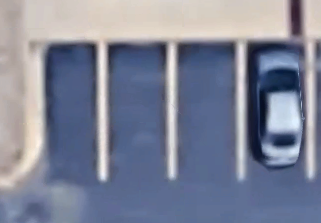Occupied: (241, 43, 311, 179)
Vacant: (171, 42, 241, 180), (102, 42, 171, 180), (36, 43, 103, 181)
